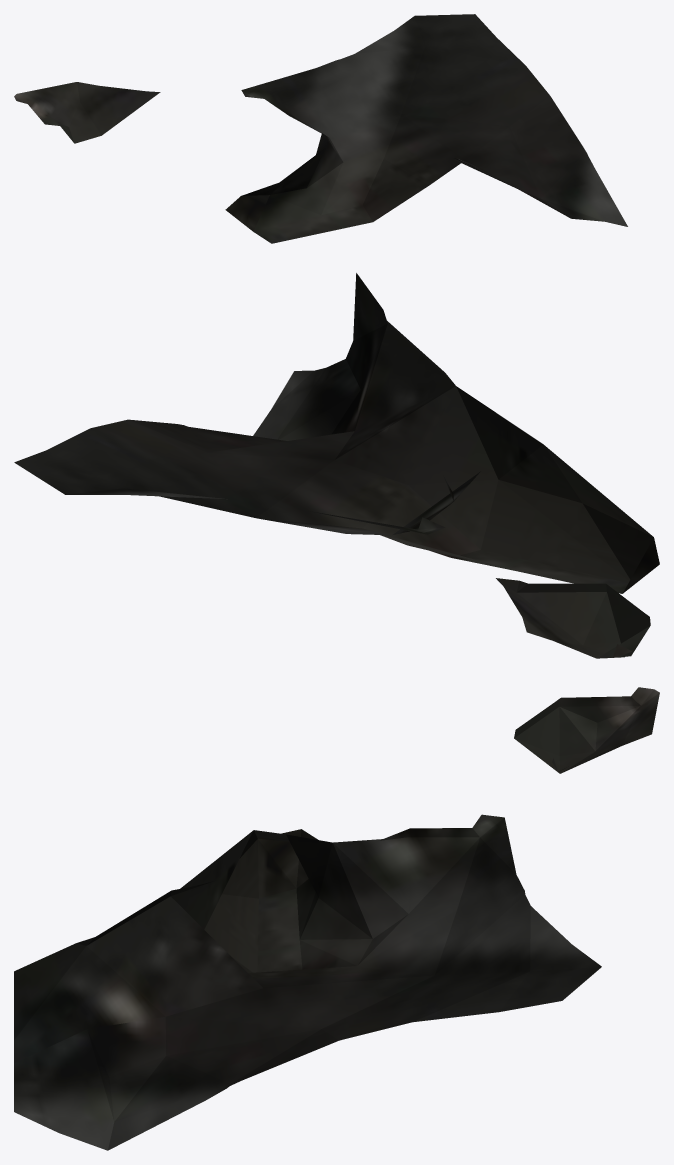
3 views of the same model, one above another, from view 1: azimuth 30°, elevation 25°; view 2: azimuth 150°, elevation 25°; view 3: azimuth 270°, elevation 25° (orthographic). The views are drawn at different scales.
Size of the model in its own units: 0.4227 by 0.0942 by 0.3678.
Materials: 1 (1 with a texture image).
